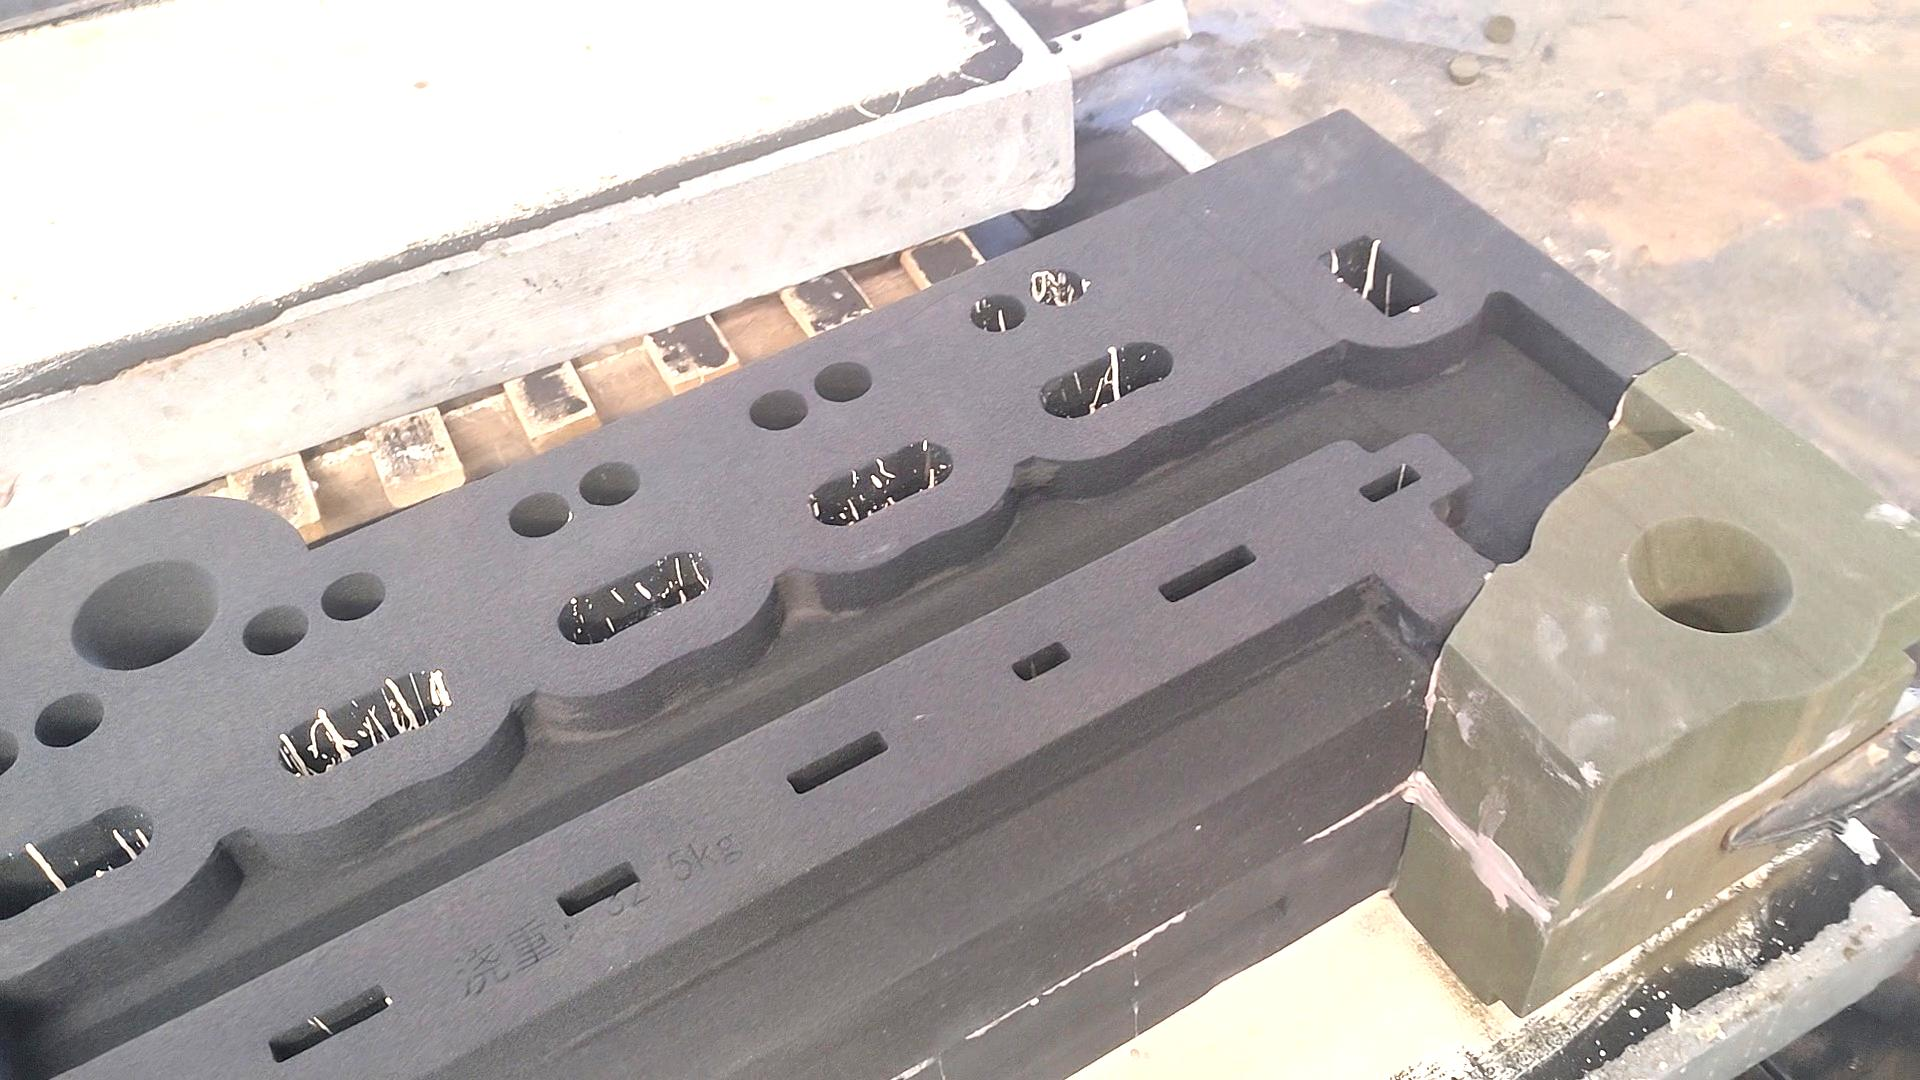pouring hole: (1630, 518, 1793, 633), (70, 556, 220, 671)
